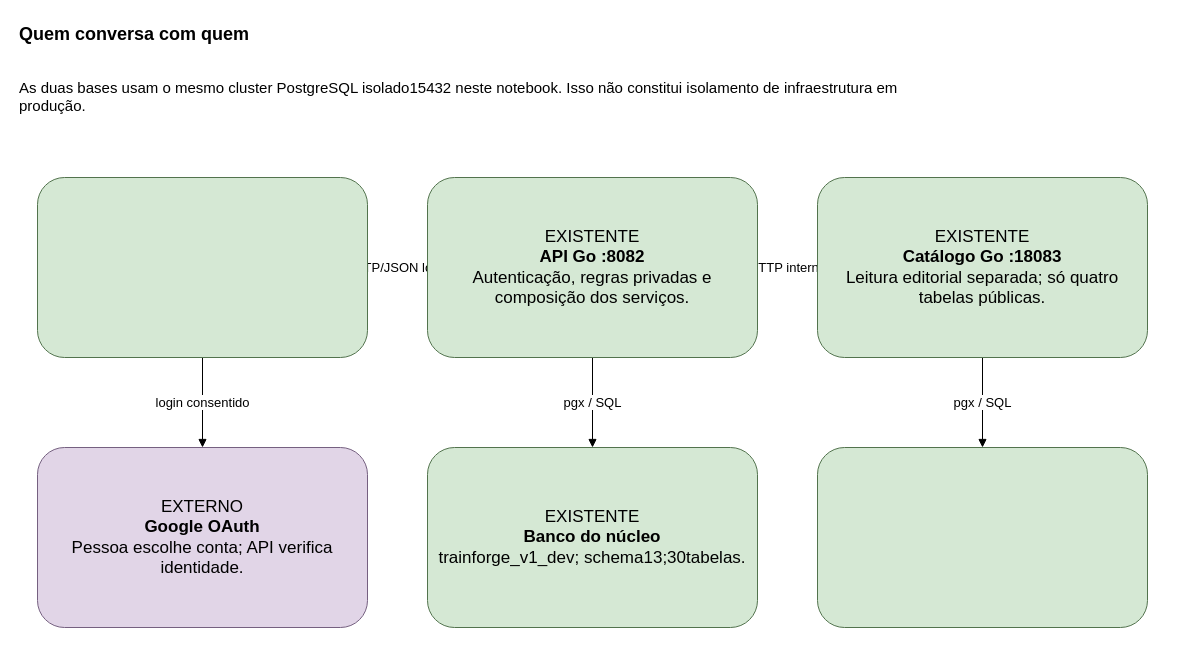
The diagram is 1184 pixels wide and 645 high, and some of its shapes have lost their labels. Here are the shapes that lost their labels. From the top down, the centre of each, then its label:
At point 202,267: "EXISTENTE Flutter / Android Interface no emulador. Porta8082 por adb reverse.".
At point 982,537: "EXISTENTE Banco do catálogo trainforge_catalog_dev; schema2;4tabelas.".
